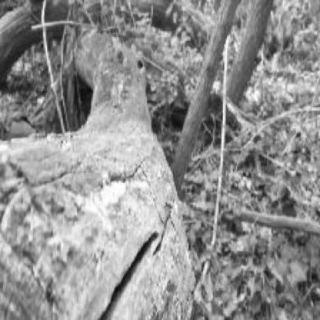other: (76, 165, 148, 231)
